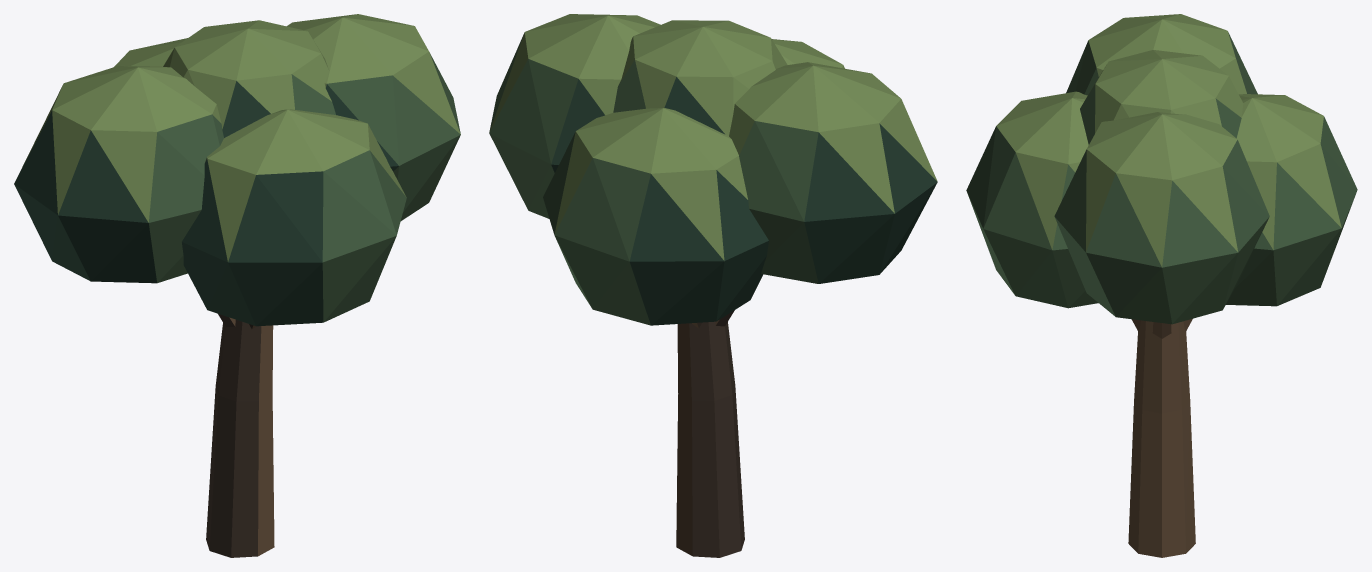
Rendered from TW_TREE_ROUND_BROAD_A_LOD0.glb.
3 views of the same model, side by side, from view 1: azimuth 30°, elevation 25°; view 2: azimuth 150°, elevation 25°; view 3: azimuth 270°, elevation 25° (orthographic). The views are drawn at different scales.
Visible parts, largest first — view 1: TW_TREE_ROUND_BROAD_A_LOD0; view 2: TW_TREE_ROUND_BROAD_A_LOD0; view 3: TW_TREE_ROUND_BROAD_A_LOD0.
Part boxes in pixels (x1,y1,x2,y2): TW_TREE_ROUND_BROAD_A_LOD0: (14,14,460,557); TW_TREE_ROUND_BROAD_A_LOD0: (489,14,937,557); TW_TREE_ROUND_BROAD_A_LOD0: (966,14,1357,557).
Size of the model in its own units: 2.94 by 3.45 by 2.51.
1 material, 1 textured.
